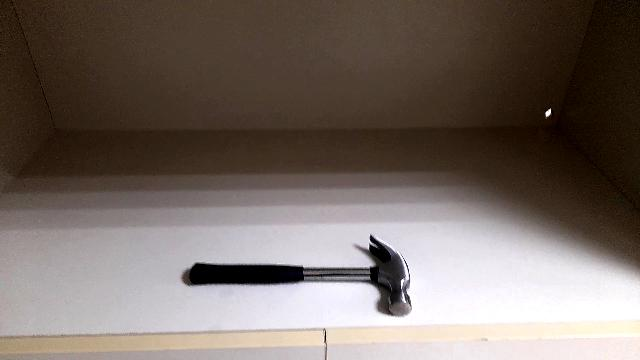hammer: (190, 236, 414, 318)
